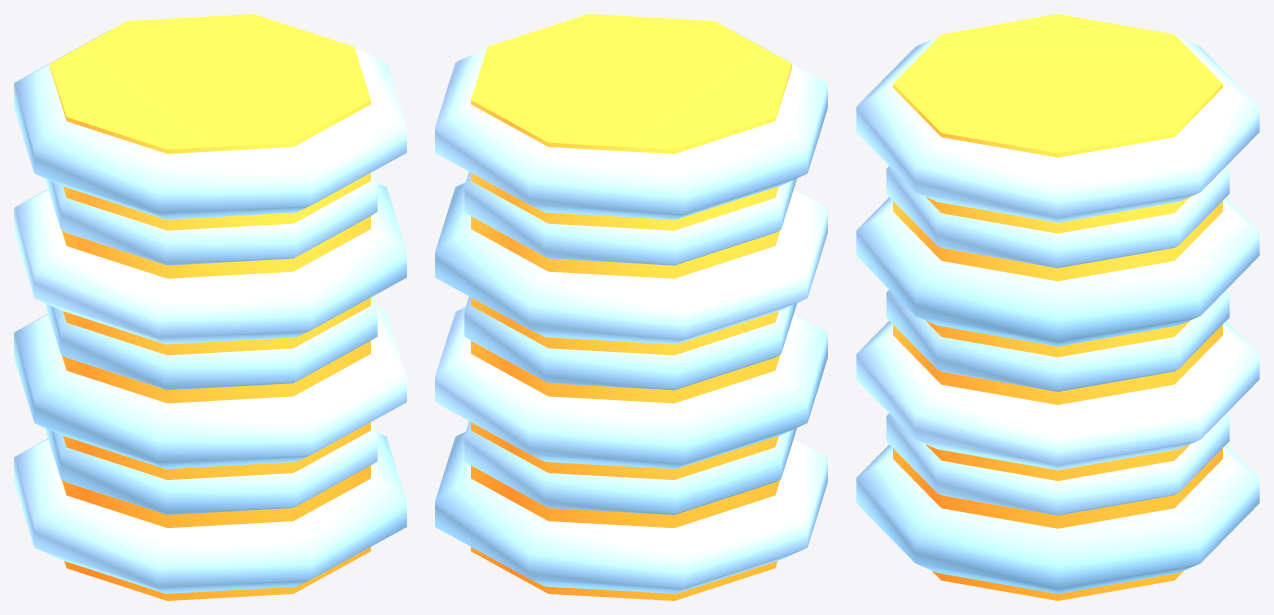
The model's file is gold_and_steel_grip_048.glb.
3 renders of one model, left to right at view 1: azimuth 30°, elevation 25°; view 2: azimuth 150°, elevation 25°; view 3: azimuth 270°, elevation 25°, orthographic.
Visible parts, largest first — view 1: gold_and_steel_grip_048; view 2: gold_and_steel_grip_048; view 3: gold_and_steel_grip_048.
Part boxes in pixels (x1=…): gold_and_steel_grip_048: x1=14, y1=14, x2=406, y2=600; gold_and_steel_grip_048: x1=435, y1=14, x2=827, y2=600; gold_and_steel_grip_048: x1=856, y1=14, x2=1259, y2=600.
Size of the model in its own units: 2.45 by 3 by 2.45.
Materials: 1 (1 with a texture image).
